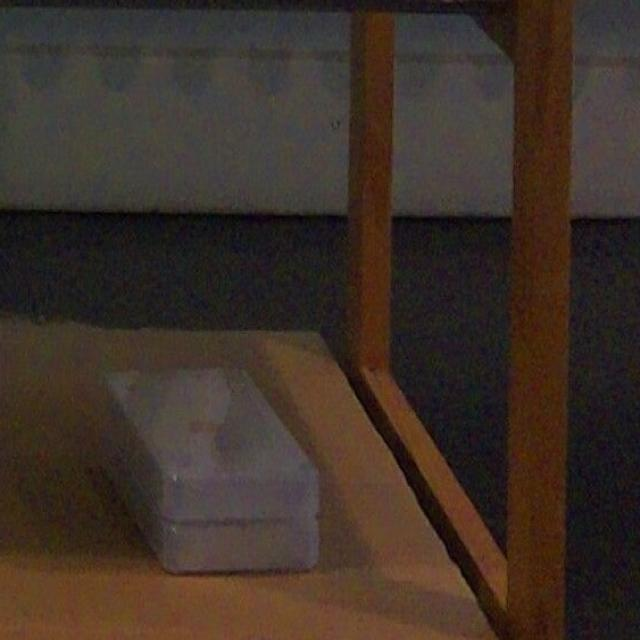Jasskarte: (107, 366, 318, 523), (101, 441, 318, 575)
